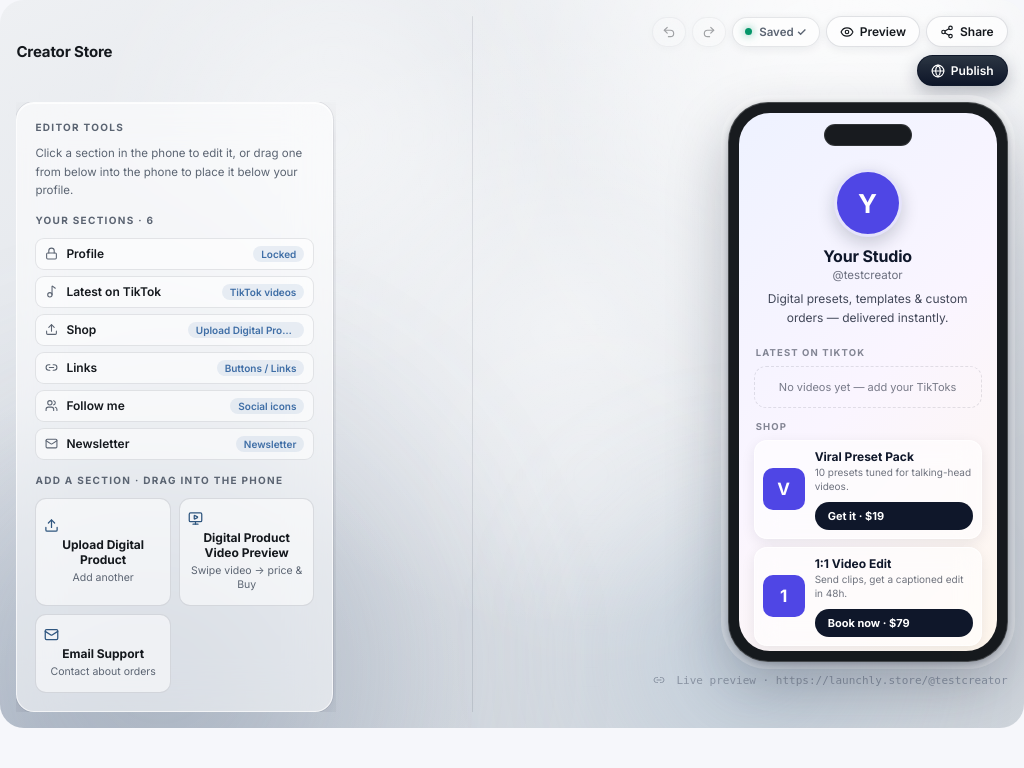
Test: CreatorStorePage › preview › replaces the editor with a full-screen preview showing exactly one phone
Click the button "Preview": (873, 32) [826,16,920,47]
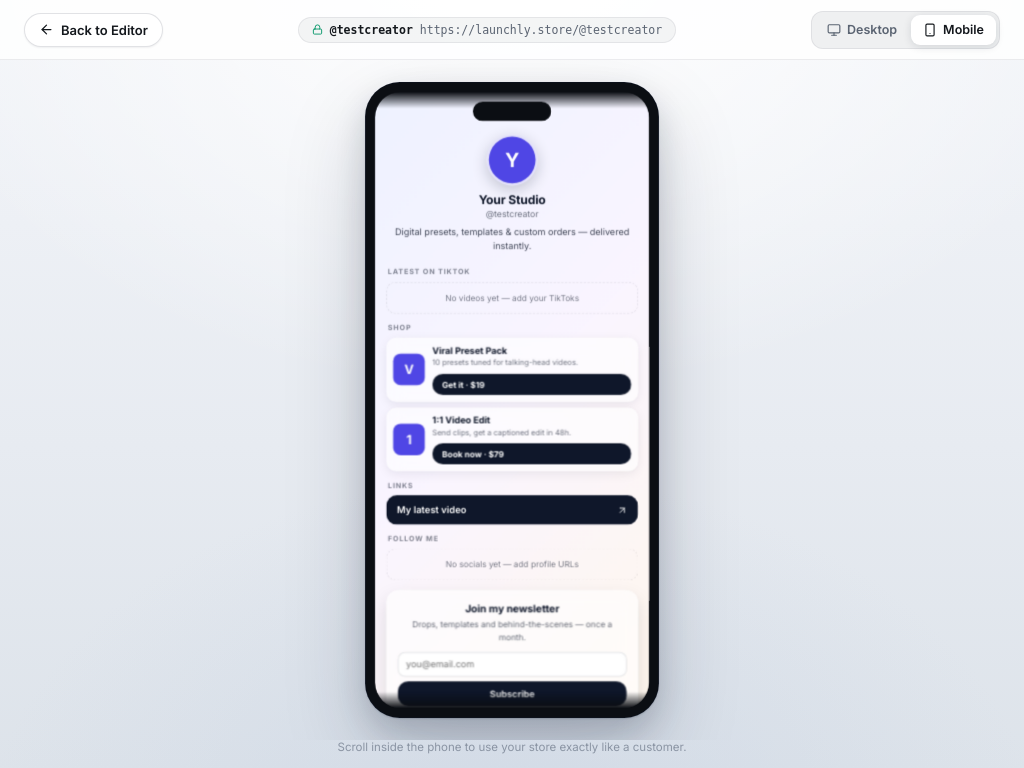
Check: the number of dialogs with class "cs-pv" is 1
Check: the text "Editor Tools" is gone
Check: the element with class "cs-editor-tools" is gone
